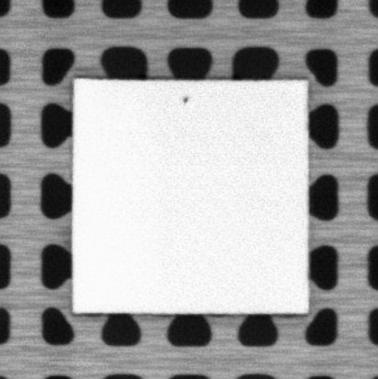DIE_INK: (180, 95, 190, 104)
